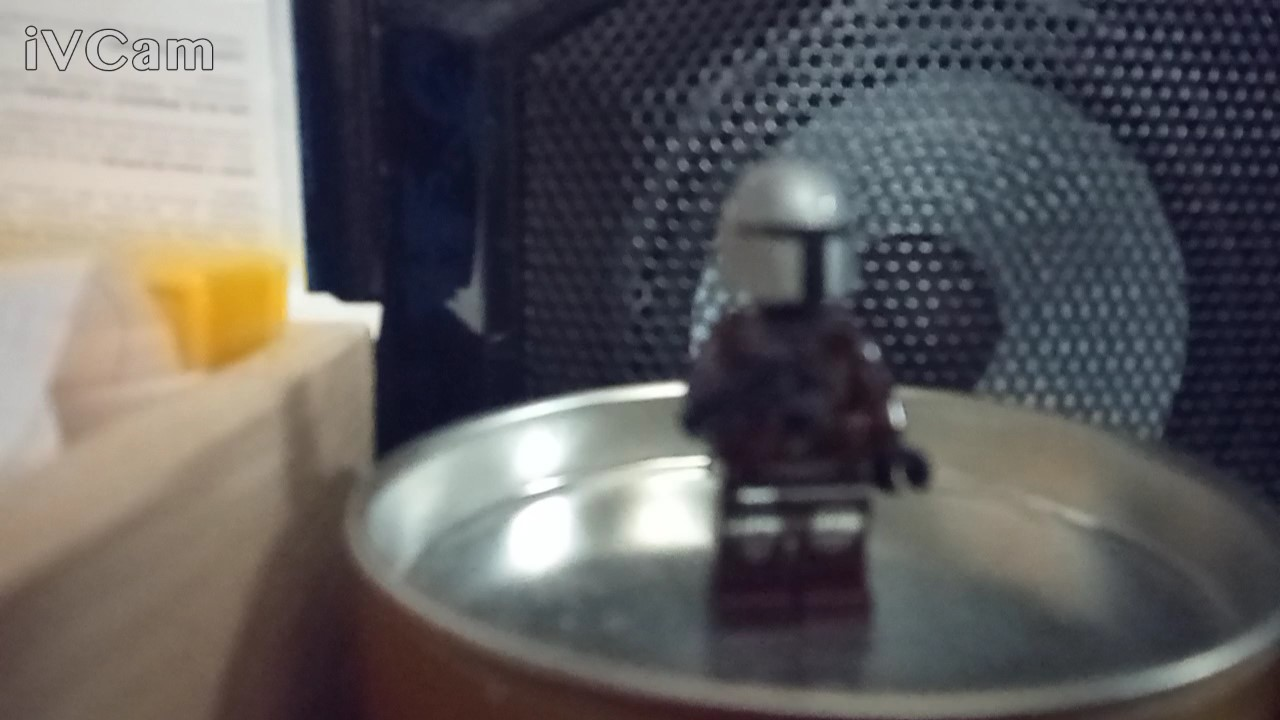mandalorian: (663, 142, 940, 651)
